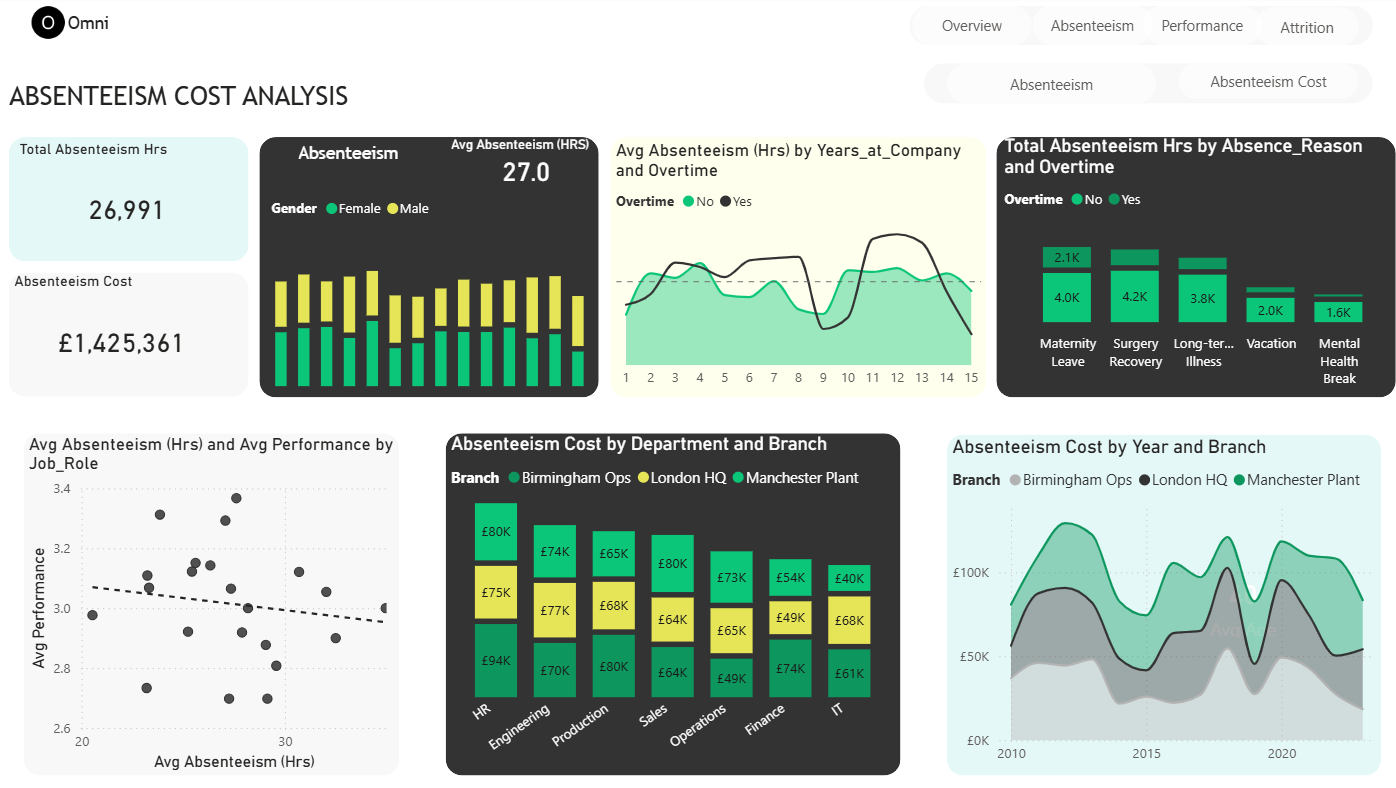

What the dashboard file says about the page in this screenshot:
{"tool":"powerbi","page":{"name":"ABSENTEEISM COST","canvas":[1280,720],"ordinal":2},"visuals":[{"type":"shape","box":[13.3,128.6,217.4,112.7],"z":0},{"type":"shape","box":[13.3,251.8,217.4,112.7],"z":1000},{"type":"shape","box":[558,128.6,340.7,235.9],"z":2000},{"type":"shape","box":[239.9,128.6,307.5,235.9],"z":3000},{"type":"shape","box":[409.6,396.3,412.2,310.2],"z":4000},{"type":"shape","box":[26.5,396.3,340.7,310.2],"z":5000},{"type":"textbox","box":[62.3,10.6,186.9,49],"z":6000},{"type":"textbox","box":[8,71.6,320.8,45.1],"z":7000},{"type":"image","box":[26.5,4,45.1,42.4],"z":8000},{"type":"textbox","box":[270.4,128.6,116.6,31.8],"z":9000},{"type":"columnChart","fields":{"Category":["Omni_Employee_HR_Dataset.Hire_Date.Variation.Date Hierarchy.Year","Omni_Employee_HR_Dataset.Hire_Date.Variation.Date Hierarchy.Quarter","Omni_Employee_HR_Dataset.Hire_Date.Variation.Date Hierarchy.Month","Omni_Employee_HR_Dataset.Hire_Date.Variation.Date Hierarchy.Day"],"Series":["Omni_Employee_HR_Dataset.Gender"],"Y":["Absenteeism Measures.Avg Absenteeism (Hrs)"]},"box":[246.5,173.6,295.6,186.9],"z":10000},{"type":"card","title":"Avg Absenteeism (HRS)","fields":{"Values":["Absenteeism Measures.Avg Absenteeism (Hrs)"]},"box":[409.6,128.6,145.8,47.7],"z":11000},{"type":"card","title":"Absenteeism Cost","fields":{"Values":["Absenteeism Measures.Absenteeism Cost"]},"box":[13.3,251.8,204.1,108.7],"z":12000},{"type":"columnChart","fields":{"Category":["Omni_Employee_HR_Dataset.Department","Omni_Employee_HR_Dataset.Job_Role"],"Series":["Omni_Employee_HR_Dataset.Branch"],"Y":["Absenteeism Measures.Absenteeism Cost"]},"box":[409.6,396.3,412.2,310.2],"z":13000},{"type":"shape","box":[829.2,9.1,420.2,35.8],"z":14000},{"type":"actionButton","box":[831.8,9.1,108.7,35.8],"z":15000},{"type":"actionButton","box":[940.5,8.5,108.7,37.1],"z":16000},{"type":"actionButton","box":[1039.9,9.1,108.7,35.8],"z":17000},{"type":"actionButton","box":[1141.8,10.8,94.3,35],"z":18000},{"type":"card","title":"Total Absenteeism Hrs","fields":{"Values":["Absenteeism Measures.Total Absenteeism Hrs"]},"box":[18.6,131.2,204.1,108.7],"z":19000},{"type":"shape","box":[908,128.6,361.9,235.9],"z":20000},{"type":"shape","box":[862.9,397.7,393.7,308.8],"z":21000},{"type":"columnChart","fields":{"Category":["Omni_Employee_HR_Dataset.Absence_Reason"],"Y":["Absenteeism Measures.Total Absenteeism Hrs"],"Series":["Omni_Employee_HR_Dataset.Overtime"]},"box":[910.6,125.9,360.5,237.3],"z":22000},{"type":"scatterChart","fields":{"X":["Absenteeism Measures.Avg Absenteeism (Hrs)"],"Y":["Performance Measures.Avg Performance"],"Category":["Omni_Employee_HR_Dataset.Job_Role"]},"box":[26.5,396.3,340.7,310.2],"z":23000},{"type":"card","title":"Avg Absenteeism (HRS)","fields":{"Values":["Key Measures.Avg Age"]},"box":[1079,516.9,104.7,70.3],"z":24000},{"type":"areaChart","fields":{"Series":["Omni_Employee_HR_Dataset.Overtime"],"Y":["Absenteeism Measures.Avg Absenteeism (Hrs)"],"Category":["Omni_Employee_HR_Dataset.Years_at_Company"]},"box":[558,131.2,340.7,233.3],"z":25000},{"type":"stackedAreaChart","fields":{"Category":["Omni_Employee_HR_Dataset.Hire_Date.Variation.Date Hierarchy.Year","Omni_Employee_HR_Dataset.Hire_Date.Variation.Date Hierarchy.Quarter","Omni_Employee_HR_Dataset.Hire_Date.Variation.Date Hierarchy.Month","Omni_Employee_HR_Dataset.Hire_Date.Variation.Date Hierarchy.Day"],"Y":["Absenteeism Measures.Absenteeism Cost"],"Series":["Omni_Employee_HR_Dataset.Branch"]},"box":[863.1,399.9,394.5,305.7],"z":26000},{"type":"shape","box":[842.9,61.9,406.6,36.4],"z":27000},{"type":"actionButton","box":[1073.2,61.9,162.9,32.3],"z":28000},{"type":"actionButton","box":[863.1,61.9,189.9,36.4],"z":29000}]}

Visuals, with their boxes on the page's 1280x720 design canvas (x1, y1, x2, y2). These are canvas units, not pixel positions in the 1396x788 screenshot, which may show the page scaled, cropped or inside an application window:
shape: bbox=(13, 129, 231, 241)
shape: bbox=(13, 252, 231, 364)
shape: bbox=(558, 129, 899, 364)
shape: bbox=(240, 129, 547, 364)
shape: bbox=(410, 396, 822, 706)
shape: bbox=(26, 396, 367, 706)
textbox: bbox=(62, 11, 249, 60)
textbox: bbox=(8, 72, 329, 117)
image: bbox=(26, 4, 72, 46)
textbox: bbox=(270, 129, 387, 160)
columnChart - Omni_Employee_HR_Dataset.Hire_Date.Variation.Date Hierarchy.Year x Omni_Employee_HR_Dataset.Hire_Date.Variation.Date Hierarchy.Quarter: bbox=(246, 174, 542, 360)
"Avg Absenteeism (HRS)" card: bbox=(410, 129, 555, 176)
"Absenteeism Cost" card: bbox=(13, 252, 217, 360)
columnChart - Omni_Employee_HR_Dataset.Department x Omni_Employee_HR_Dataset.Job_Role: bbox=(410, 396, 822, 706)
shape: bbox=(829, 9, 1249, 45)
actionButton: bbox=(832, 9, 940, 45)
actionButton: bbox=(940, 8, 1049, 46)
actionButton: bbox=(1040, 9, 1149, 45)
actionButton: bbox=(1142, 11, 1236, 46)
"Total Absenteeism Hrs" card: bbox=(19, 131, 223, 240)
shape: bbox=(908, 129, 1270, 364)
shape: bbox=(863, 398, 1257, 706)
columnChart - Omni_Employee_HR_Dataset.Absence_Reason x Absenteeism Measures.Total Absenteeism Hrs: bbox=(911, 126, 1271, 363)
scatterChart - Absenteeism Measures.Avg Absenteeism (Hrs) x Performance Measures.Avg Performance: bbox=(26, 396, 367, 706)
"Avg Absenteeism (HRS)" card: bbox=(1079, 517, 1184, 587)
areaChart - Omni_Employee_HR_Dataset.Overtime x Absenteeism Measures.Avg Absenteeism (Hrs): bbox=(558, 131, 899, 364)
stackedAreaChart - Omni_Employee_HR_Dataset.Hire_Date.Variation.Date Hierarchy.Year x Omni_Employee_HR_Dataset.Hire_Date.Variation.Date Hierarchy.Quarter: bbox=(863, 400, 1258, 706)
shape: bbox=(843, 62, 1250, 98)
actionButton: bbox=(1073, 62, 1236, 94)
actionButton: bbox=(863, 62, 1053, 98)
